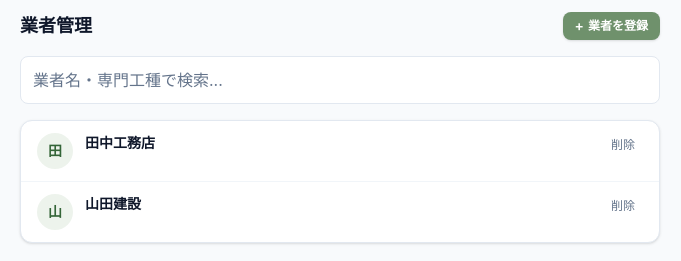
ContractorsPage › 検索ボックスで業者を絞り込める
Expected: the text "田中工務店" is shown, [85,134,155,151]
Type "田中" into the search field with placeholder "業者名・専門工種で検索..." at (340, 80), box [20,56,660,104]
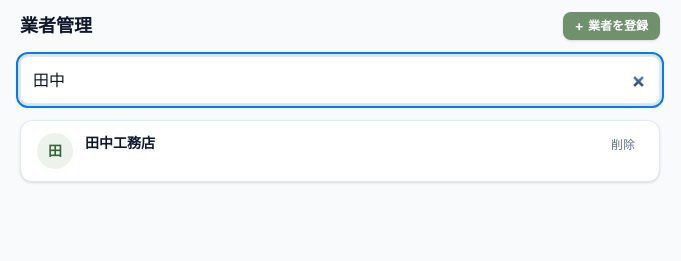
Expected: the text "田中工務店" is shown, [85,134,155,151]
Result: the text "山田建設" is gone
